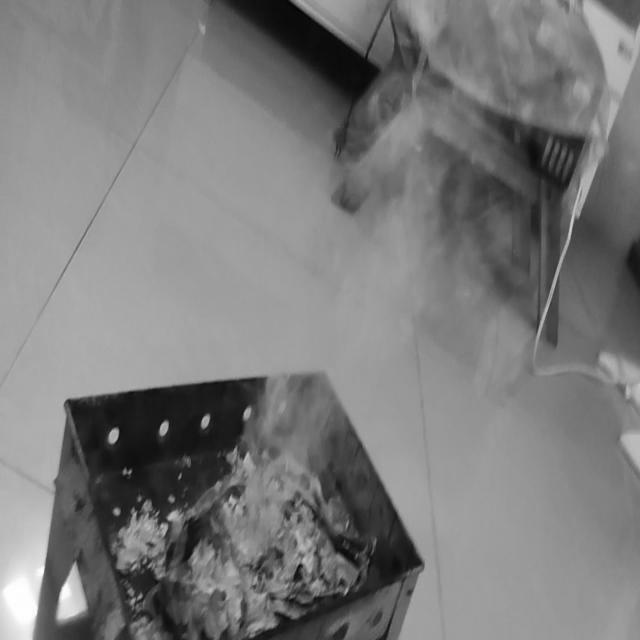fire: (360, 0, 459, 327), (252, 336, 336, 468)
